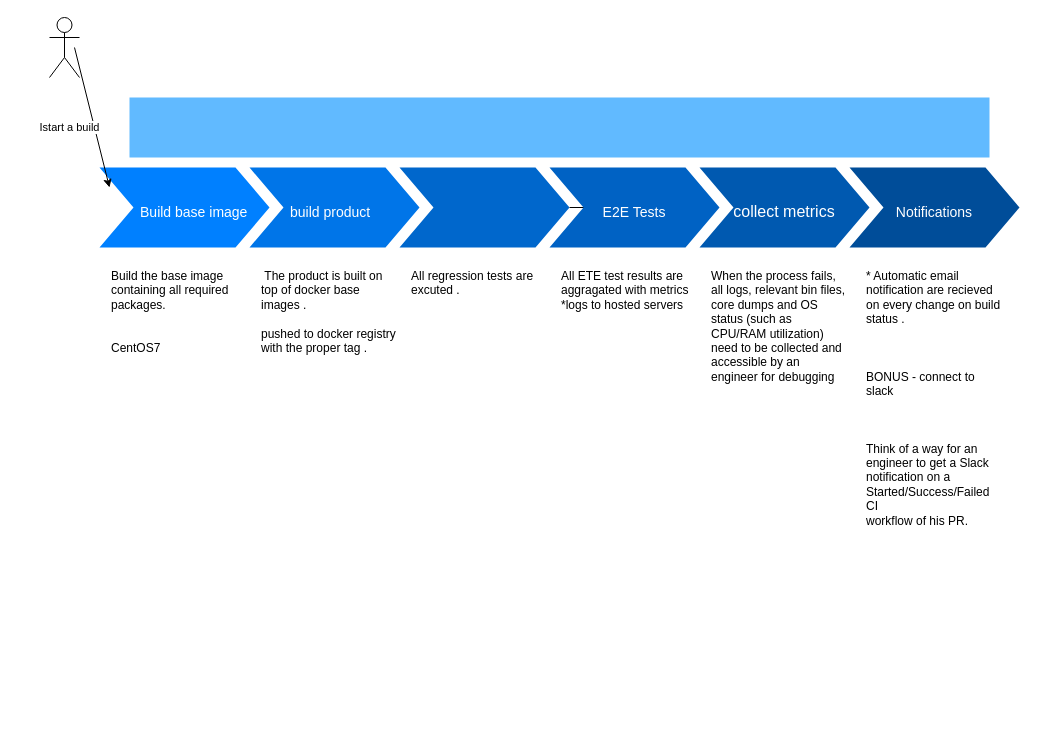
The diagram is 1037 pixels wide and 755 high, and some of its shapes have lost their labels. The centre of each missing label's shape, as x and y in pixels:
"Regatta CI GitHubActions E2E Workflow" belongs at pixel 559 127.
"Regression" belongs at pixel 484 207.
"Release Manager" belongs at pixel 64 47.
